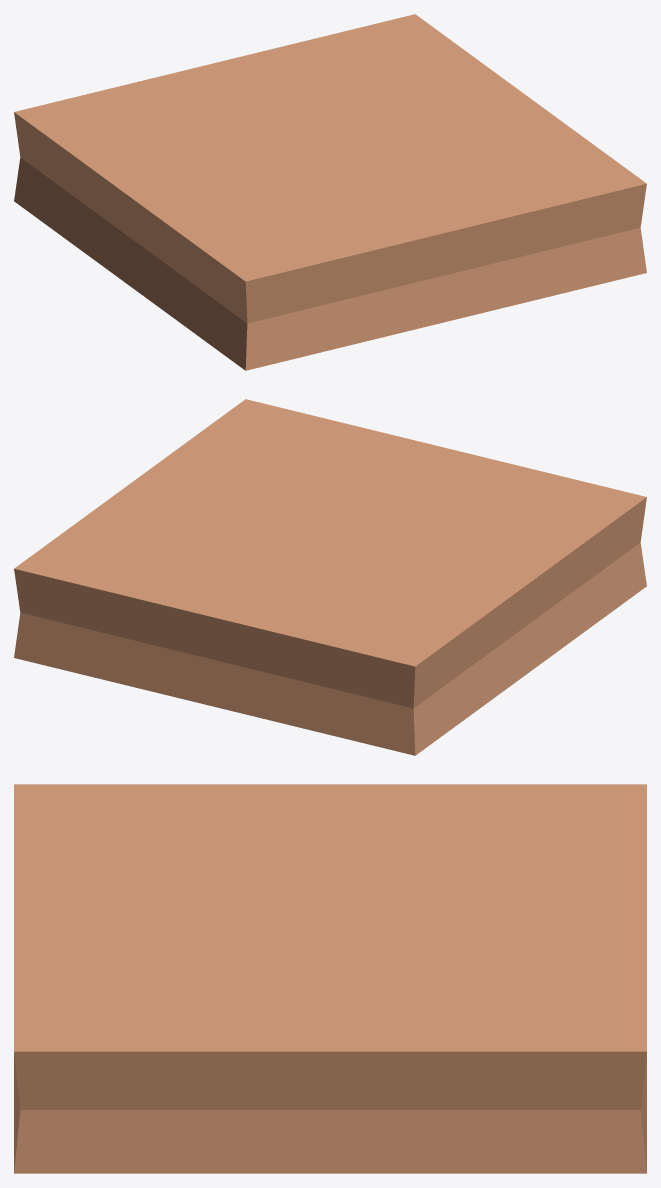
File: roof-flat-detail-c.obj
3 views of the same model, one above another, from view 1: azimuth 30°, elevation 25°; view 2: azimuth 150°, elevation 25°; view 3: azimuth 270°, elevation 25° (orthographic). The views are drawn at different scales.
Bounding box in the file's own units: 1 × 0.2125 × 1.
